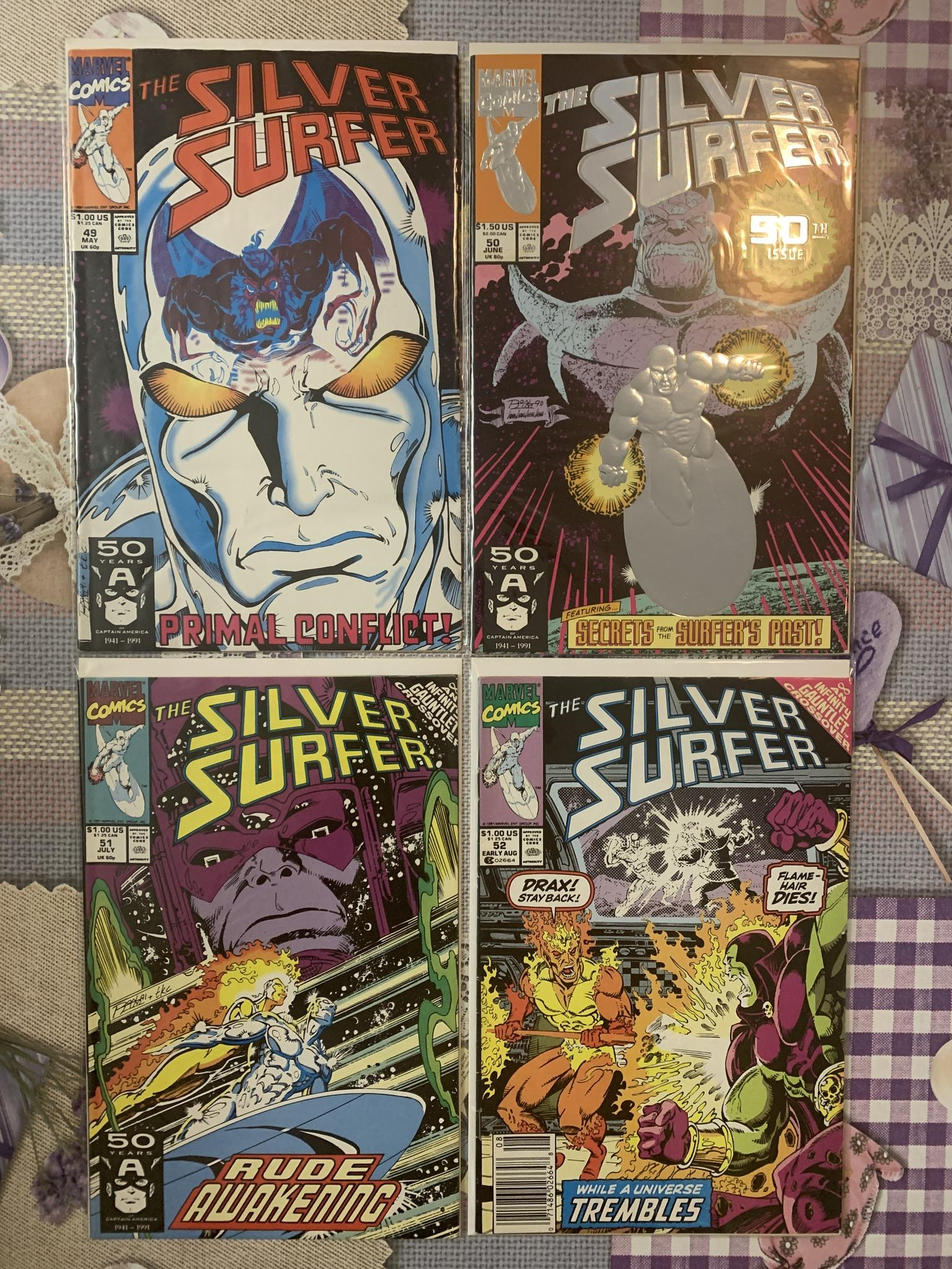comic: (66, 37, 465, 655), (467, 44, 858, 656), (467, 657, 852, 1236), (80, 657, 459, 1238)
